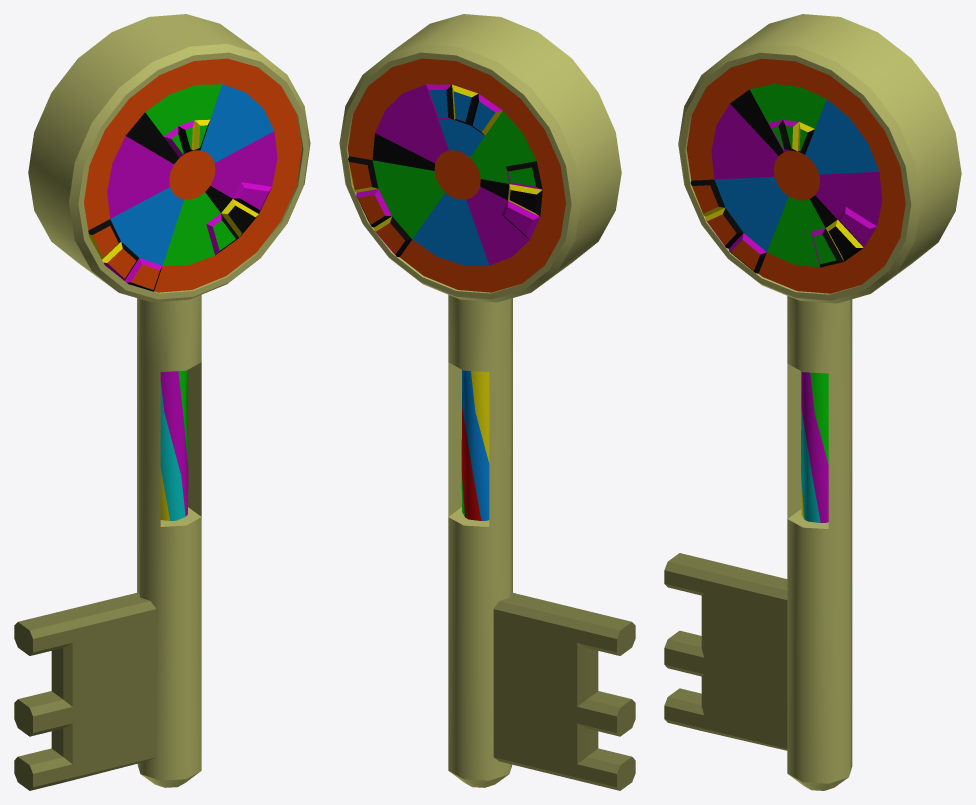
Rendered from WW_key_prop.fbx.
3 renders of one model, left to right at view 1: azimuth 30°, elevation 25°; view 2: azimuth 150°, elevation 25°; view 3: azimuth 330°, elevation 25°, orthographic.
Visible parts, largest first — view 1: key, spinner, twister; view 2: key, spinner1, twister; view 3: key, spinner, twister.
Boxes of the visible parts, x1,y1,x2,y2 form: key: (14,14,310,790); spinner: (84,58,301,292); twister: (160,370,188,520); key: (339,14,635,790); spinner1: (348,58,565,292); twister: (461,370,489,520); key: (664,14,961,790); spinner: (686,58,905,293); twister: (801,371,828,522).
Size of the model in its own units: 6.37 by 17.12 by 2.08.
